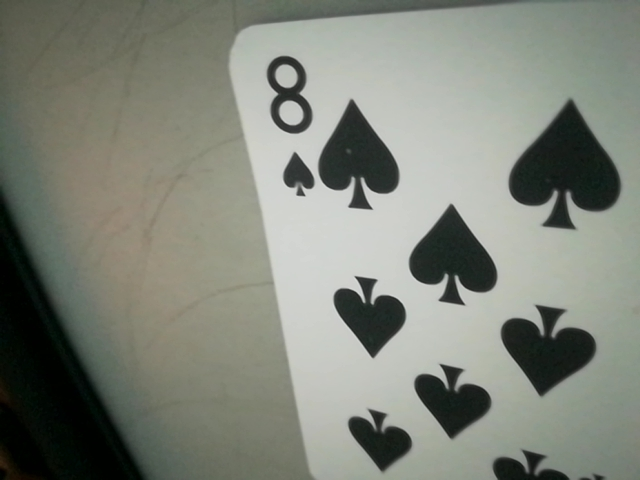ht 8: (253, 42, 333, 210)
